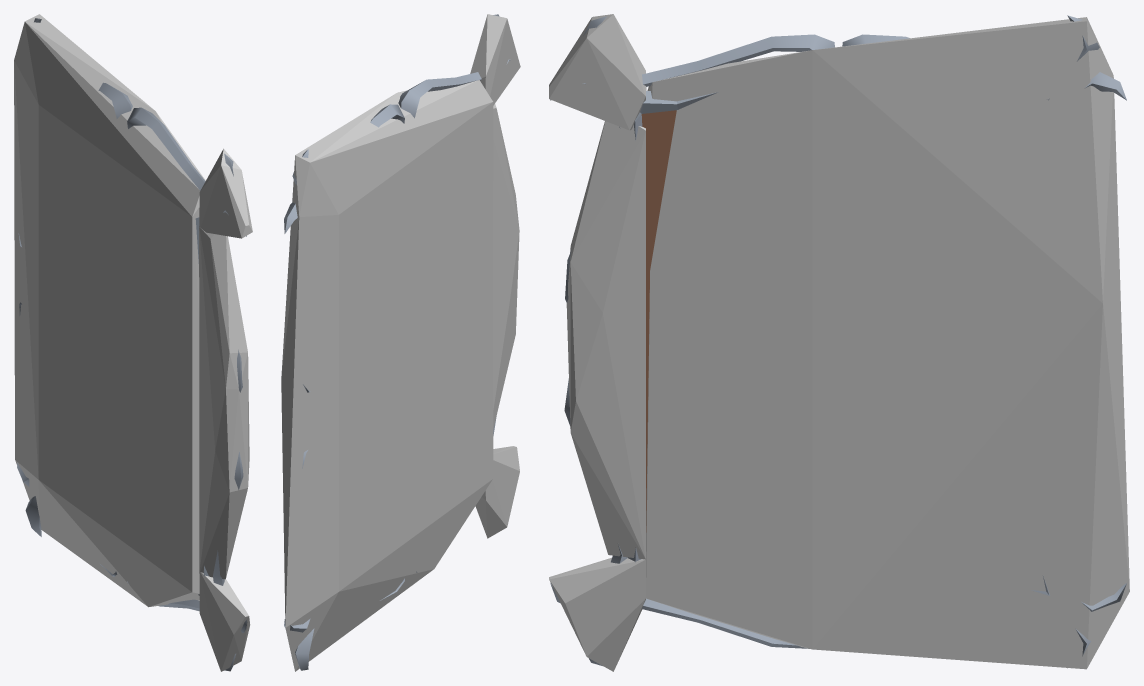
The model's file is SM_Prop_Frame_01.fbx.
The picture shows the model from 3 angles, left to right: view 1: azimuth 30°, elevation 25°; view 2: azimuth 150°, elevation 25°; view 3: azimuth 270°, elevation 25°; orthographic projection. The views are drawn at different scales.
Parts seen in each view (by area): view 1: SM_Prop_Frame_01_ConvexHulls, SM_Prop_Frame_01; view 2: SM_Prop_Frame_01_ConvexHulls, SM_Prop_Frame_01; view 3: SM_Prop_Frame_01_ConvexHulls, SM_Prop_Frame_01.
Boxes of the visible parts, bbox=[...] form: SM_Prop_Frame_01_ConvexHulls: bbox=[14, 14, 252, 671]; SM_Prop_Frame_01: bbox=[17, 18, 247, 671]; SM_Prop_Frame_01_ConvexHulls: bbox=[281, 14, 520, 671]; SM_Prop_Frame_01: bbox=[284, 14, 510, 670]; SM_Prop_Frame_01_ConvexHulls: bbox=[549, 14, 1129, 671]; SM_Prop_Frame_01: bbox=[550, 15, 1126, 668].
Size of the model in its own units: 8.68 by 117 by 146.
Materials: 2 (1 with a texture image).
